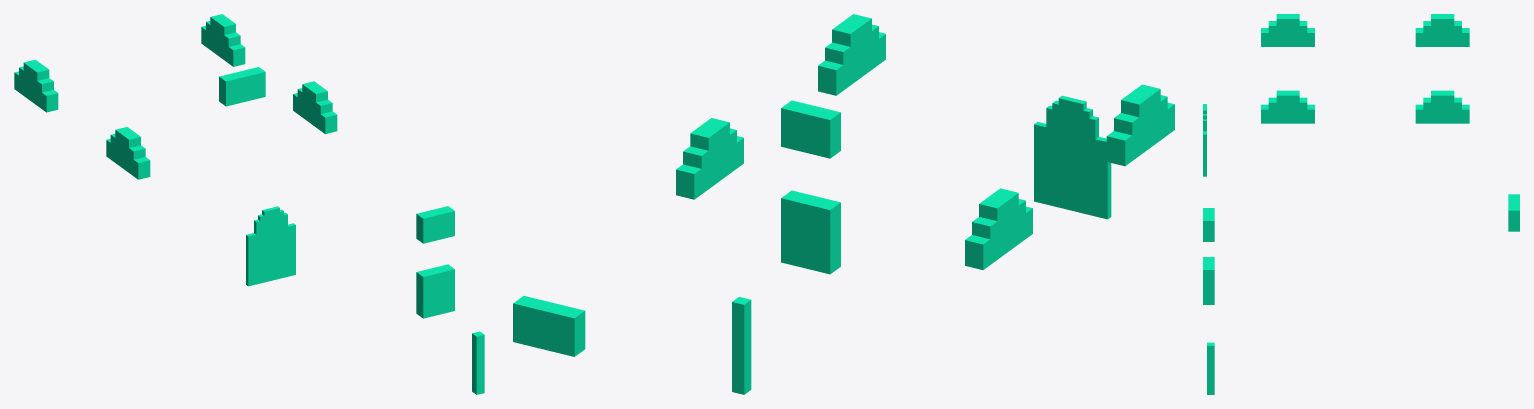
Rendered from Disciplina vetri.obj.
The picture shows the model from 3 angles, left to right: view 1: azimuth 30°, elevation 25°; view 2: azimuth 150°, elevation 25°; view 3: azimuth 270°, elevation 25°; orthographic projection. The views are drawn at different scales.
Size of the model in its own units: 15.8 by 14.4 by 16.4.
Materials: 1 (1 with a texture image).
